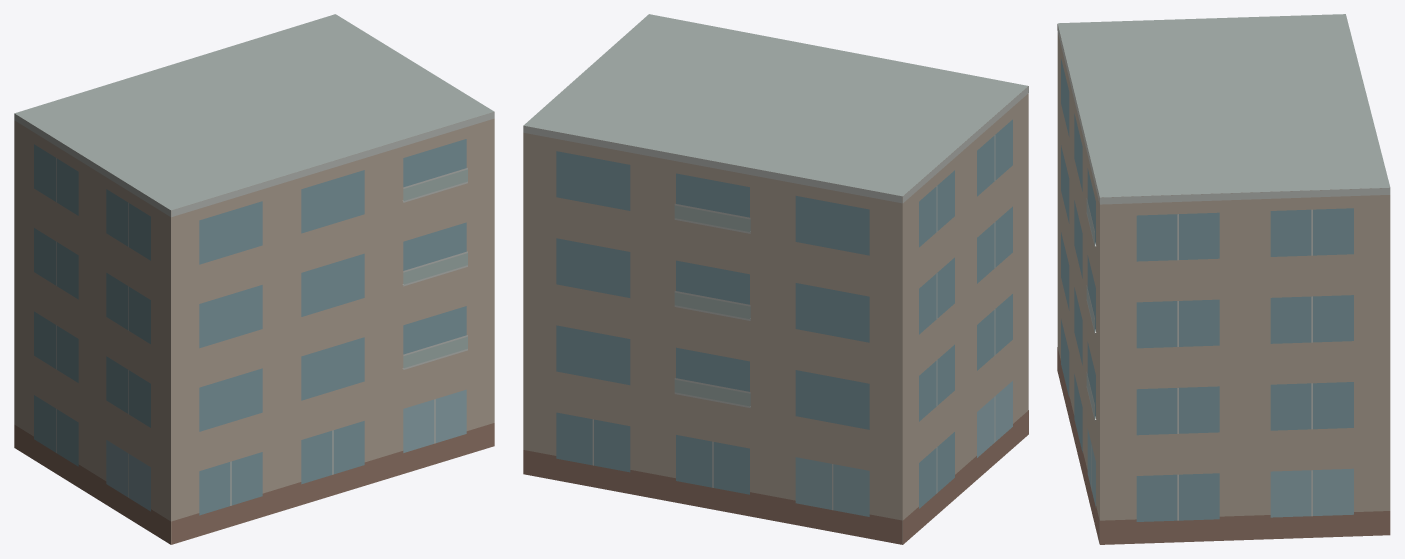
Rendered from survey-upis-32891677.glb.
3 views of the same model, side by side, from view 1: azimuth 30°, elevation 25°; view 2: azimuth 150°, elevation 25°; view 3: azimuth 270°, elevation 25° (orthographic). The views are drawn at different scales.
Parts seen in each view (by area): view 1: survey-upis-32891677.tmp; view 2: survey-upis-32891677.tmp; view 3: survey-upis-32891677.tmp.
Boxes of the visible parts, x1=… form: survey-upis-32891677.tmp: x1=14, y1=14, x2=494, y2=544; survey-upis-32891677.tmp: x1=523, y1=14, x2=1028, y2=544; survey-upis-32891677.tmp: x1=1057, y1=14, x2=1390, y2=544.
Bounding box in the file's own units: 13.6 × 12 × 10.44.
